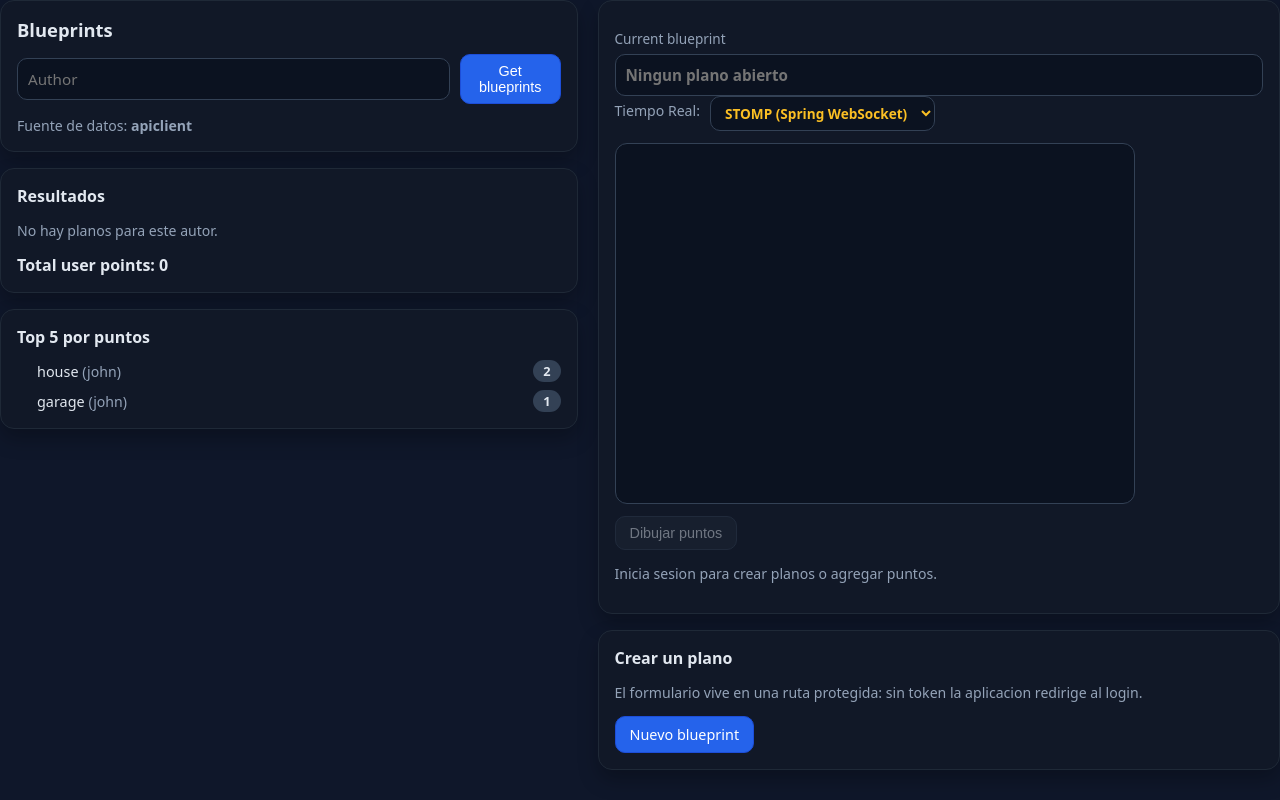
Test: BlueprintsPage › al pulsar Open el nombre del plano llega al DOM desde Redux
In the field with placeholder "Author": (233,79) [17,58,450,100], type "john"
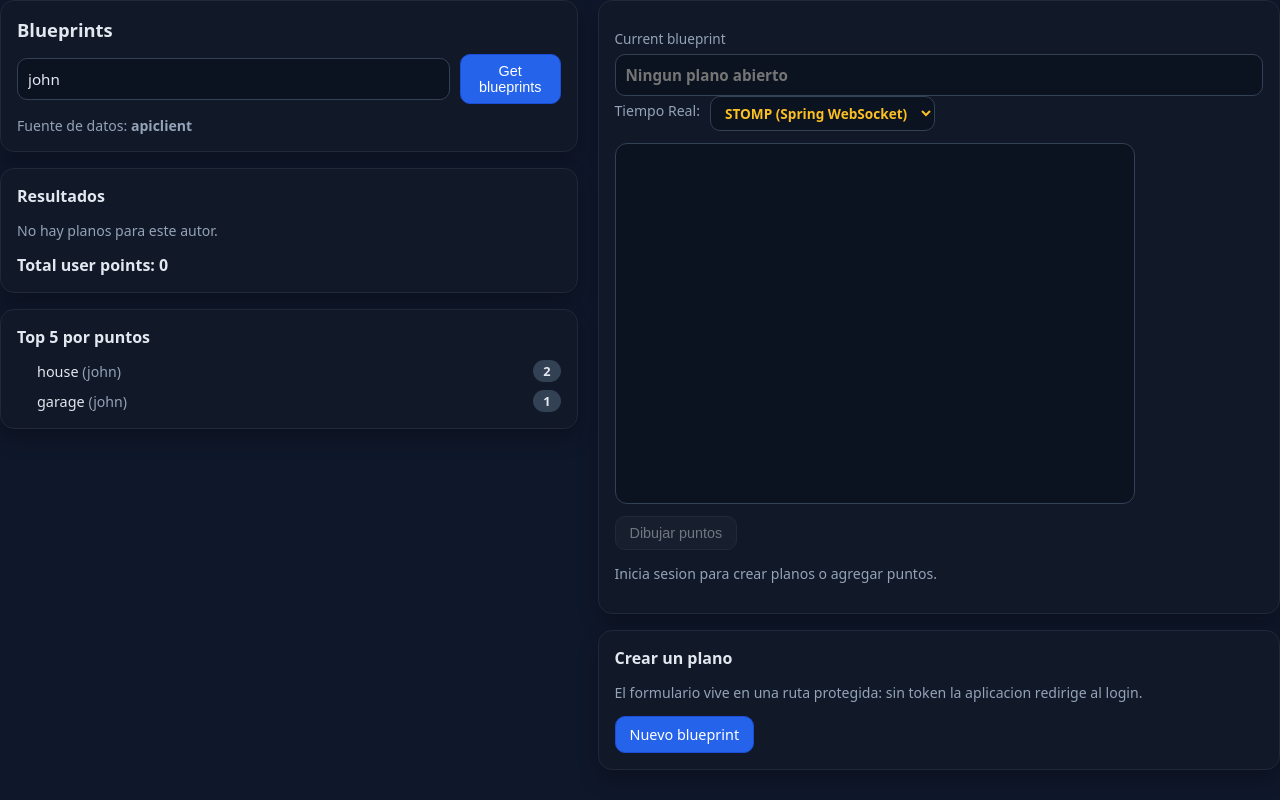
Click the button "Get blueprints": (510,79) [460,54,560,104]
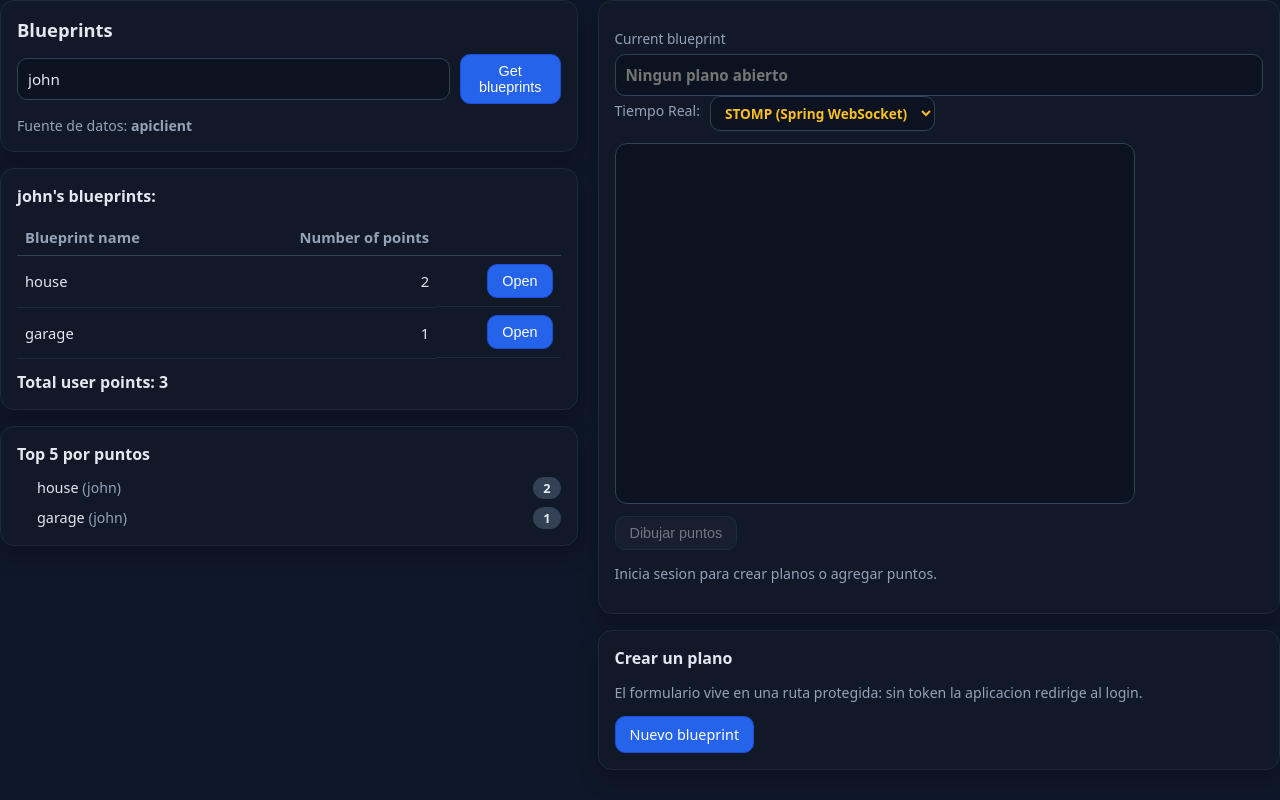
Check: the text "garage" is shown, box [37,508,85,527]
Click the 2nd button "Open": (520,332) [487,315,552,349]
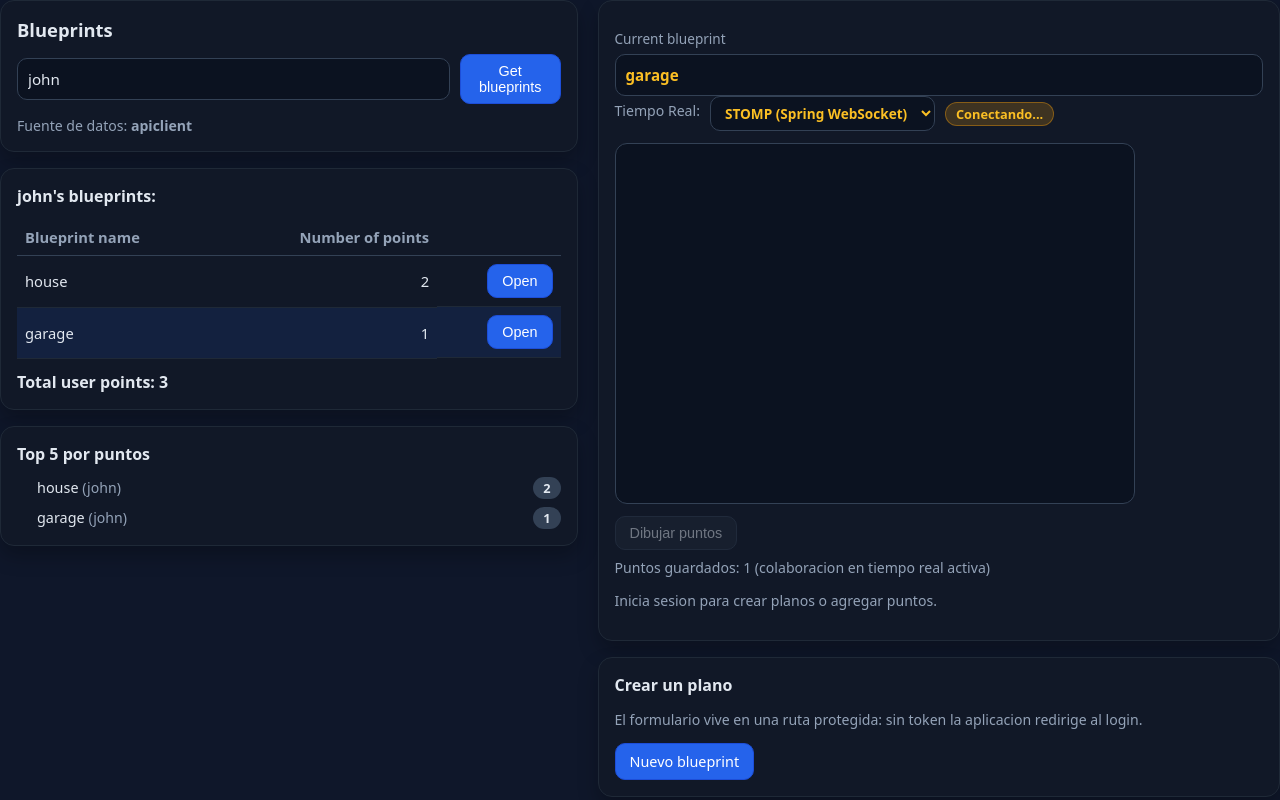
Check: the cell "garage" is shown, box [17,307,216,358]
Check: the field labelled "Current blueprint" holds "garage", box [614,54,1263,96]
